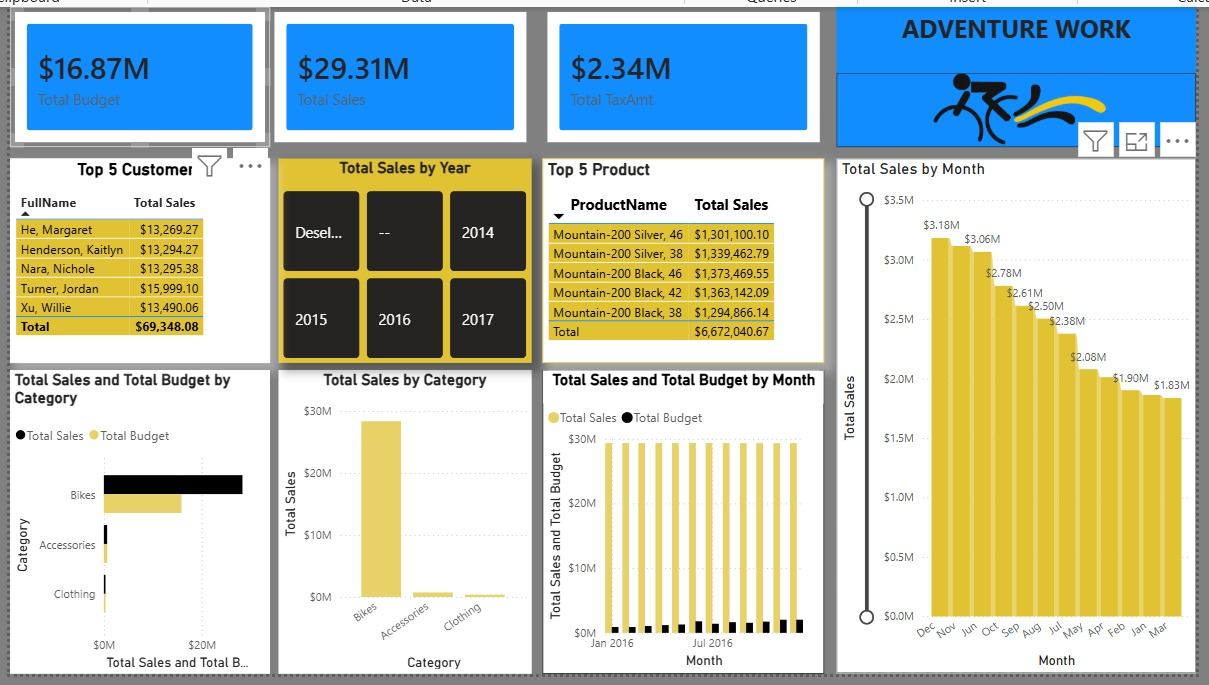

Layout of this report page (visuals, bound fields, positions):
{"tool":"powerbi","page":{"name":"Page 1","canvas":[1280,720],"ordinal":0},"visuals":[{"type":"cardVisual","fields":{"Data":["Budget.Total Budget"]},"box":[0,0,280.5,151.2],"z":0},{"type":"cardVisual","fields":{"Data":["Sales.Total Sales"]},"box":[280.5,0,282.3,151.2],"z":1000},{"type":"cardVisual","fields":{"Data":["Sales.Total TaxAmt"]},"box":[575.5,0,304.2,151.2],"z":2000},{"type":"clusteredColumnChart","fields":{"Category":["Product.Category"],"Y":["Sales.Total Sales"]},"box":[289.6,391.6,273.2,327.8],"z":3000},{"type":"advancedSlicerVisual","fields":{"Values":["Calendar.Year"]},"box":[289.6,163.9,273.2,220.4],"z":4000},{"type":"image","box":[892.4,71,387.9,80.1],"z":5000},{"type":"textbox","box":[892.4,0,387.9,71],"z":7000},{"type":"clusteredBarChart","fields":{"Category":["Product.Category"],"Y":["Sales.Total Sales","Budget.Total Budget"]},"box":[0,391.6,280.5,327.8],"z":8000},{"type":"tableEx","title":"Top 5 Product","fields":{"Values":["Product.ProductName","Sales.Total Sales"]},"box":[575.5,163.9,304.2,220.4],"z":10000},{"type":"tableEx","title":"Top 5 Customers","fields":{"Values":["Customer.FullName","Sales.Total Sales"]},"box":[0,163.9,280.5,220.4],"z":11000},{"type":"columnChart","fields":{"Category":["Calendar.Month"],"Y":["Sales.Total Sales"]},"box":[892.4,163.9,387.9,555.5],"z":11002},{"type":"lineClusteredColumnComboChart","fields":{"Category":["Budget.Month"],"Y":["Sales.Total Sales","Budget.Total Budget"]},"box":[575.5,391.6,304.2,327.8],"z":11003}]}

Visuals, with their boxes in screenshot pixels (x1, y1, x2, y2):
cardVisual - Budget.Total Budget: 3,3,264,144
cardVisual - Sales.Total Sales: 264,3,527,144
cardVisual - Sales.Total TaxAmt: 539,3,823,144
clusteredColumnChart - Product.Category x Sales.Total Sales: 273,368,527,673
advancedSlicerVisual - Calendar.Year: 273,156,527,361
image: 834,69,1196,144
textbox: 834,3,1196,69
clusteredBarChart - Product.Category x Sales.Total Sales: 3,368,264,673
"Top 5 Product" tableEx: 539,156,823,361
"Top 5 Customers" tableEx: 3,156,264,361
columnChart - Calendar.Month x Sales.Total Sales: 834,156,1196,673
lineClusteredColumnComboChart - Budget.Month x Sales.Total Sales: 539,368,823,673
